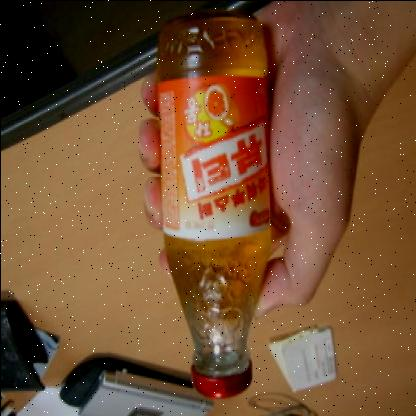Others: (156, 8, 272, 398)
